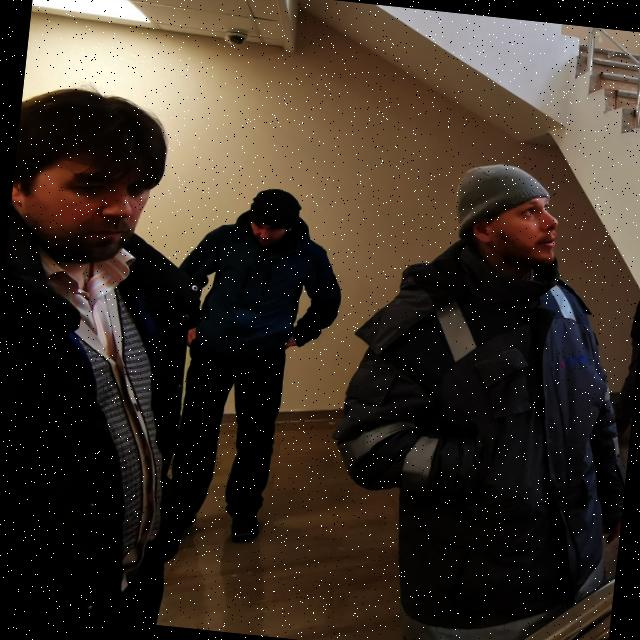NoHelmet: (6, 80, 177, 274), (449, 161, 568, 271), (242, 186, 307, 253)
